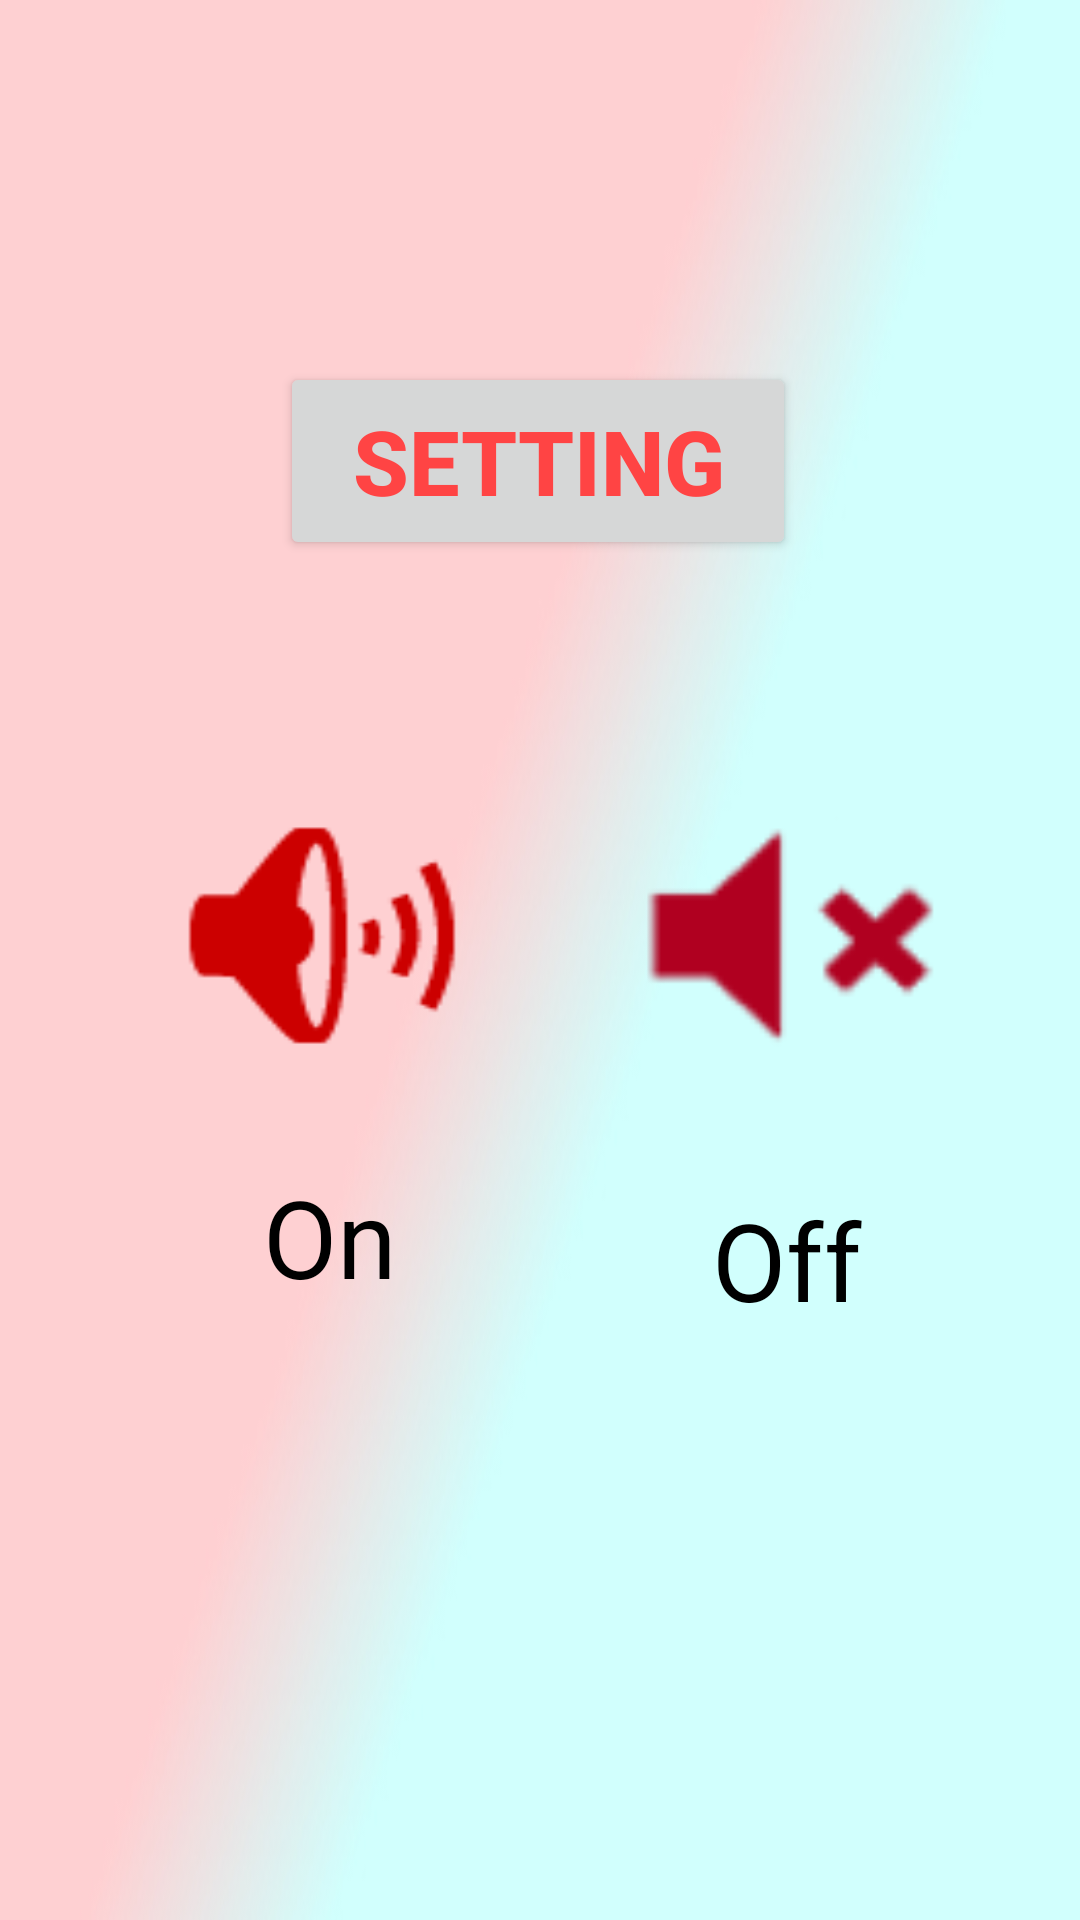

Icon bounding boxes for this 1080px x 1920px phone screenshot, format Rect(x1, y1, x2, y2):
lock silent mode: Rect(647, 830, 933, 1040)
lock silent mode off: Rect(188, 827, 520, 1081)
